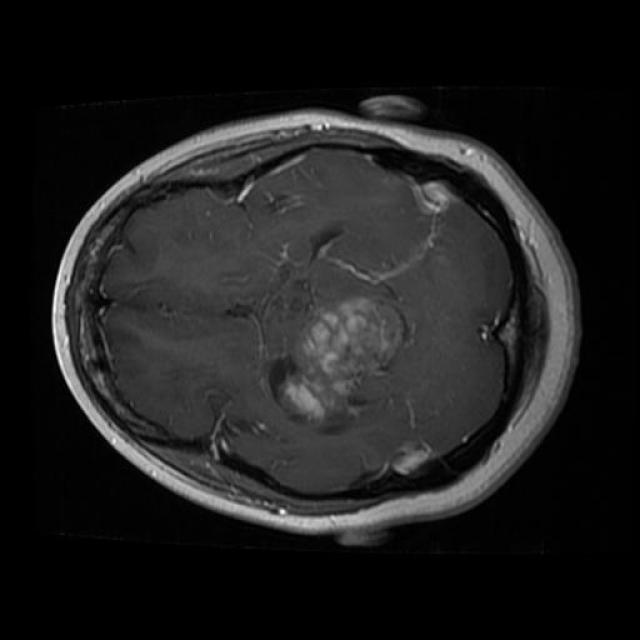Glioma: (269, 297, 404, 428)
